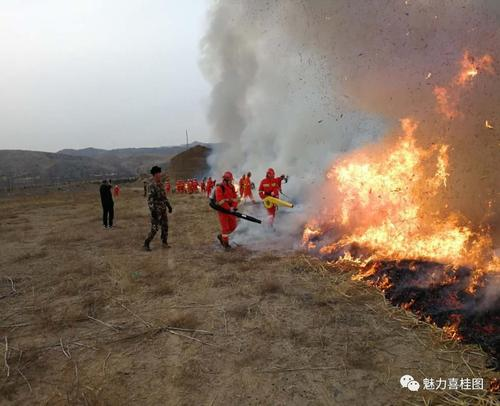fire: (326, 119, 499, 272), (460, 61, 478, 77)
